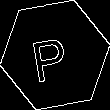P_N: (34, 27, 76, 83)
